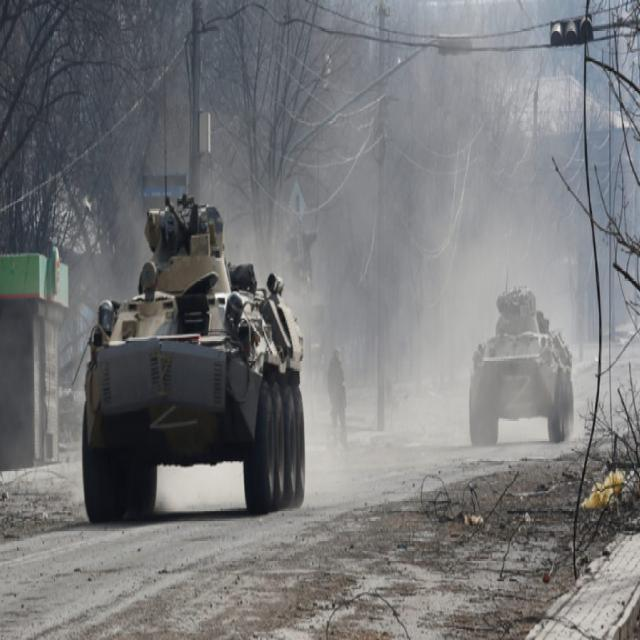APC-IFV: (78, 189, 308, 504), (466, 280, 576, 440)
